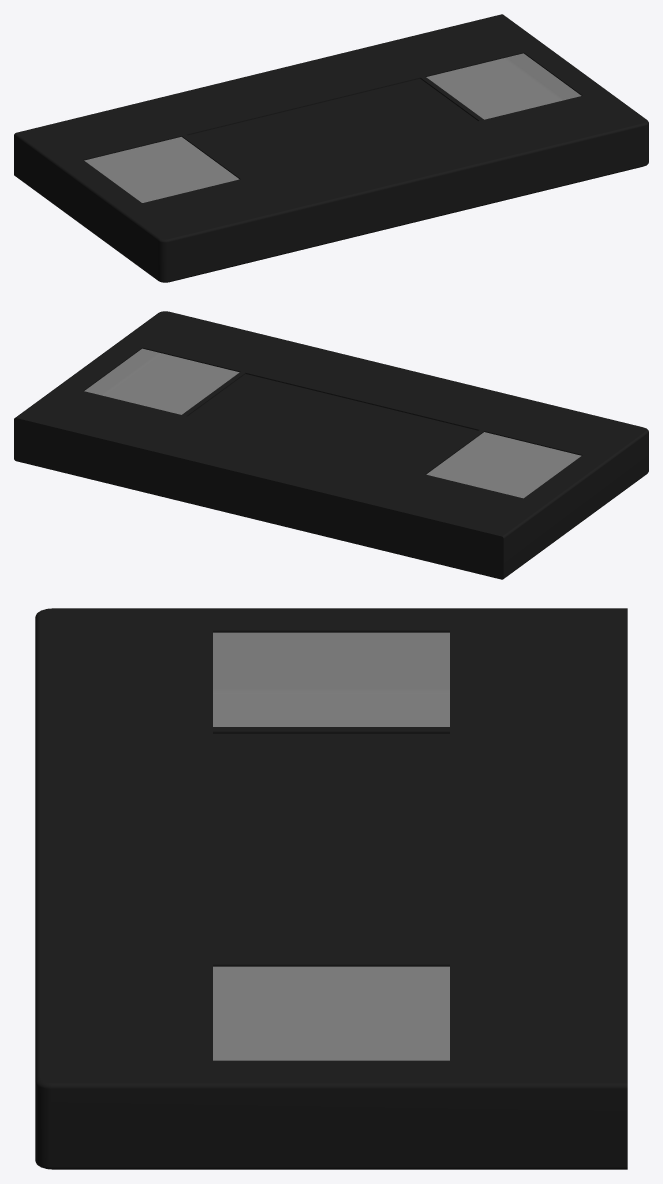
The model's file is VHSTape.fbx.
3 views of the same model, one above another, from view 1: azimuth 30°, elevation 25°; view 2: azimuth 150°, elevation 25°; view 3: azimuth 270°, elevation 25° (orthographic). The views are drawn at different scales.
Visible parts, largest first — view 1: VHSTape; view 2: VHSTape; view 3: VHSTape.
Part boxes in pixels (bbox=[...]): VHSTape: bbox=[14, 14, 648, 282]; VHSTape: bbox=[14, 311, 648, 579]; VHSTape: bbox=[35, 608, 627, 1169].
Bounding box in the file's own units: 1.68 × 0.1413 × 0.8775.
Materials: 2 (1 with a texture image).
